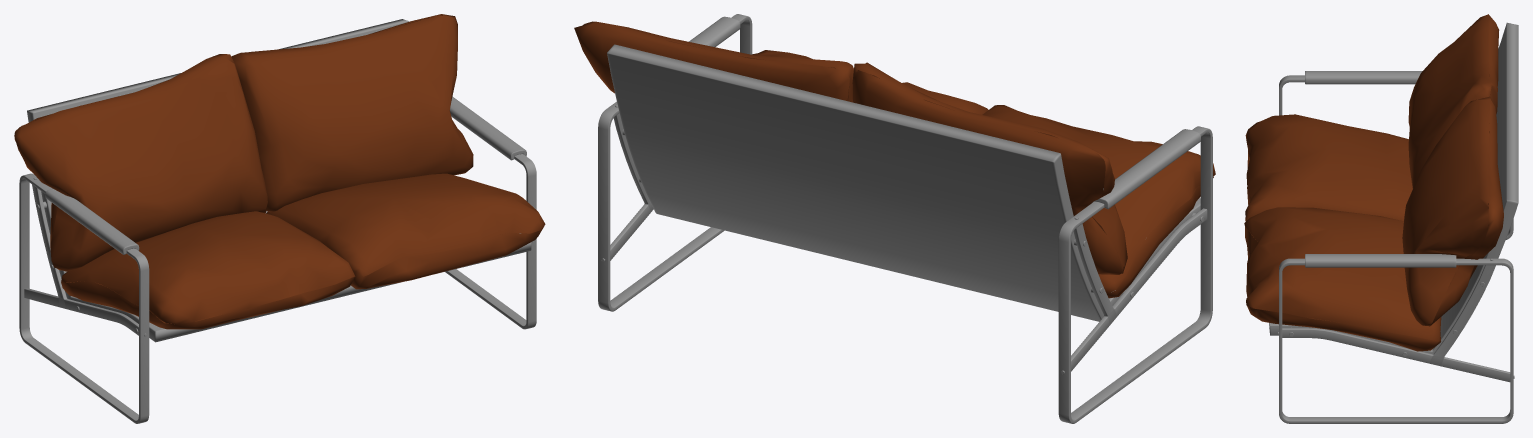
File: sofa.glb
3 renders of one model, left to right at view 1: azimuth 30°, elevation 25°; view 2: azimuth 150°, elevation 25°; view 3: azimuth 270°, elevation 25°, orthographic. The views are drawn at different scales.
Parts seen in each view (by area): view 1: sofa_yellow_2parts; view 2: sofa_yellow_2parts; view 3: sofa_yellow_2parts.
Part boxes in pixels (x1,y1,x2,y2): sofa_yellow_2parts: (14, 14, 545, 423); sofa_yellow_2parts: (574, 14, 1215, 423); sofa_yellow_2parts: (1244, 14, 1518, 423).
Bounding box in the file's own units: 1.6 × 0.8536 × 0.8821.
